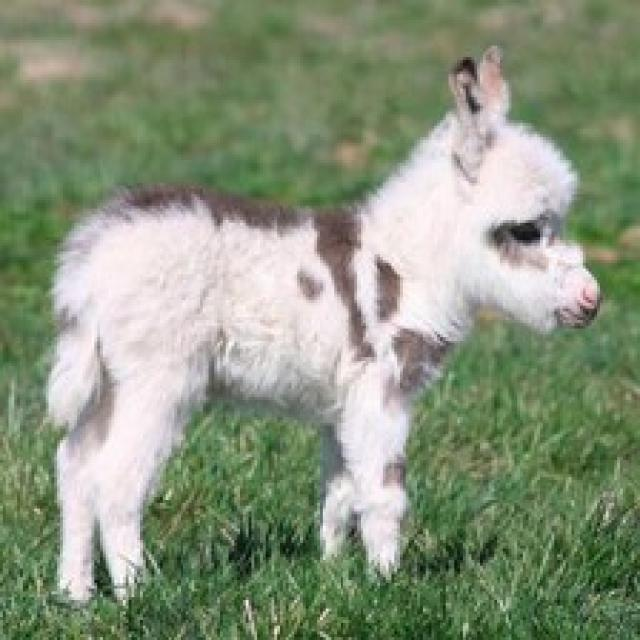Donkey: (43, 42, 603, 608)
